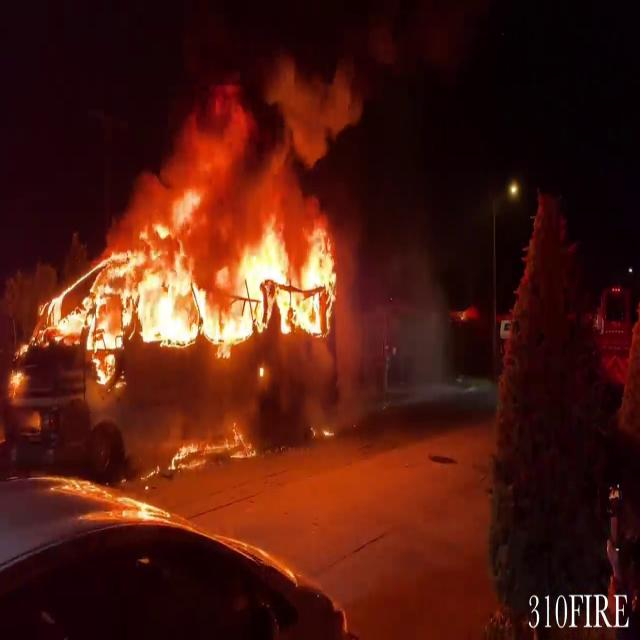Fire: (24, 57, 367, 382)
